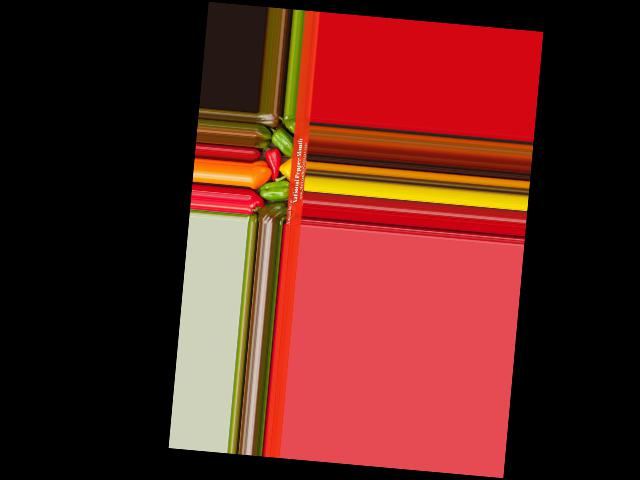bell_pepper: (257, 201, 288, 224)
